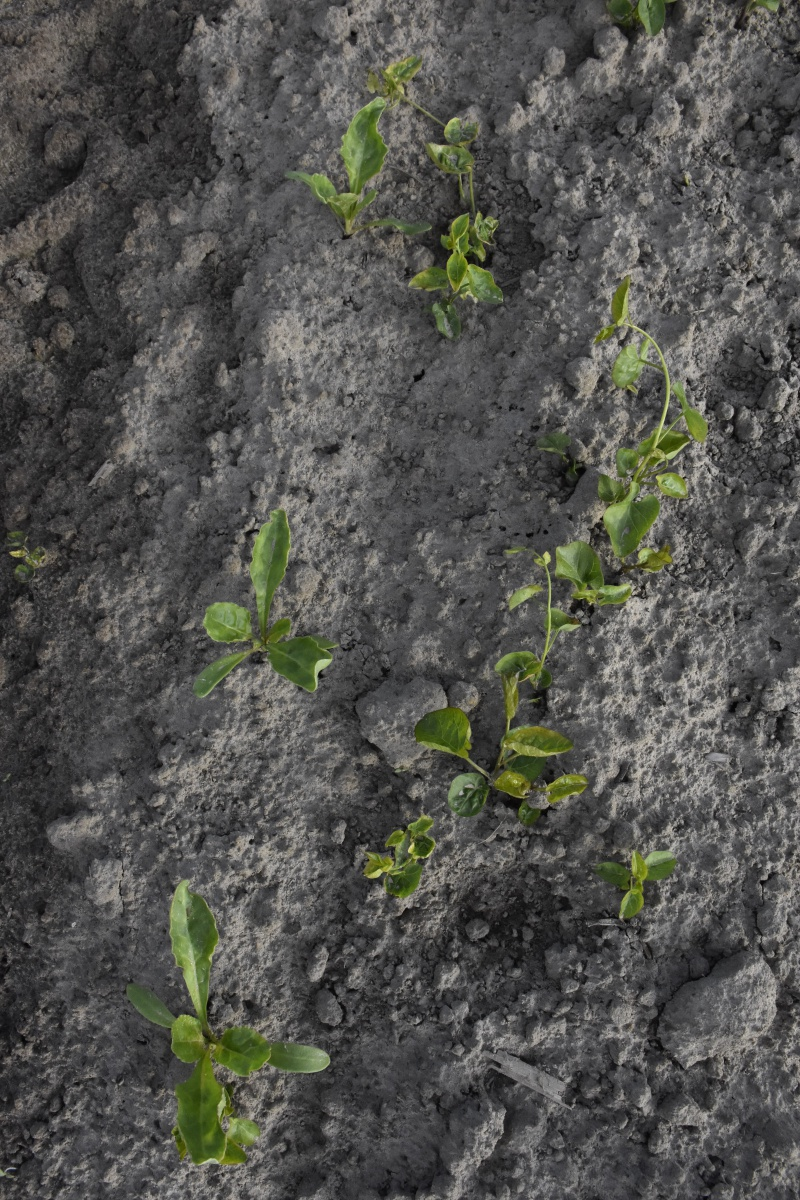field bindweed: (550, 292, 701, 605), (388, 48, 523, 324), (418, 648, 588, 831), (596, 849, 690, 929), (358, 819, 444, 905)
sugar beet: (121, 886, 328, 1169), (184, 509, 331, 709), (283, 94, 417, 229)
